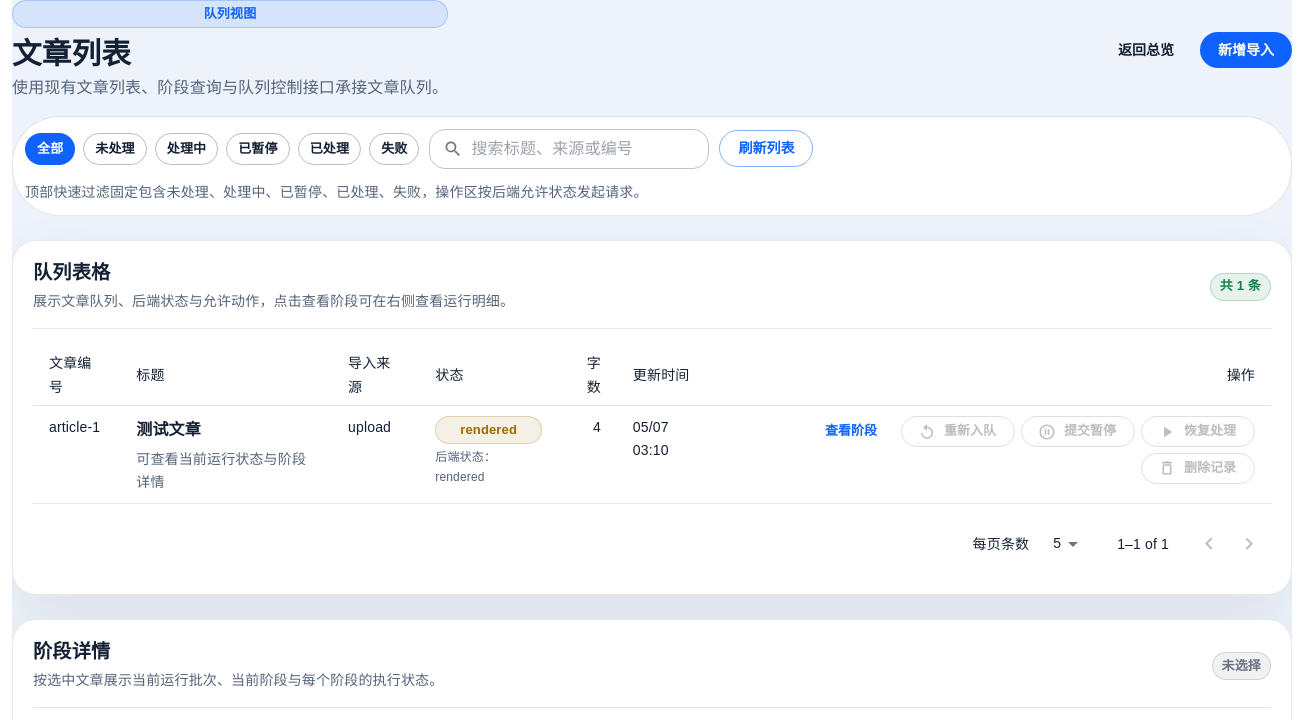
Test case: ArticlesPage › shows a failure action status when an article is selected but stages fail to load
Expected: the heading "测试文章" is shown, left=136, top=421, right=201, bottom=438
Click the row "article-1". click: {"x": 652, "y": 455}
box: left=33, top=406, right=1271, bottom=504
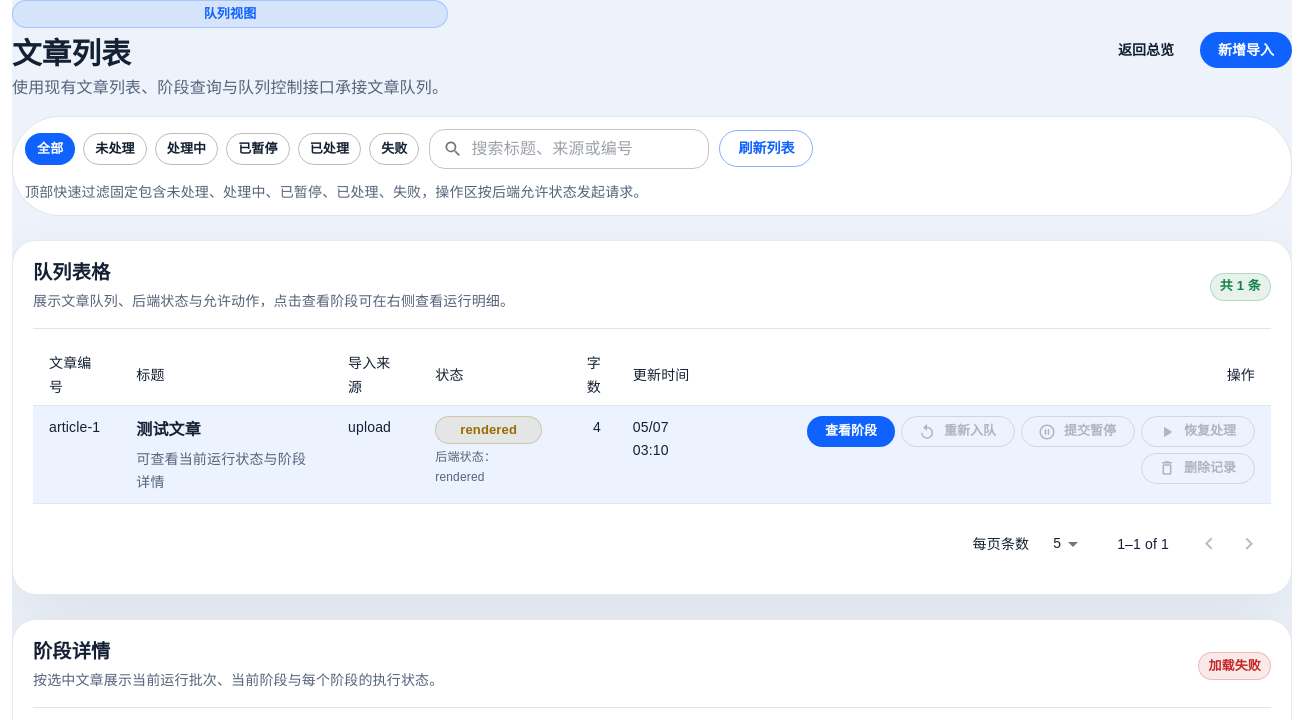
Now the text "加载失败" is shown, box left=1208, top=658, right=1261, bottom=672
Now the text "未选择" is gone
